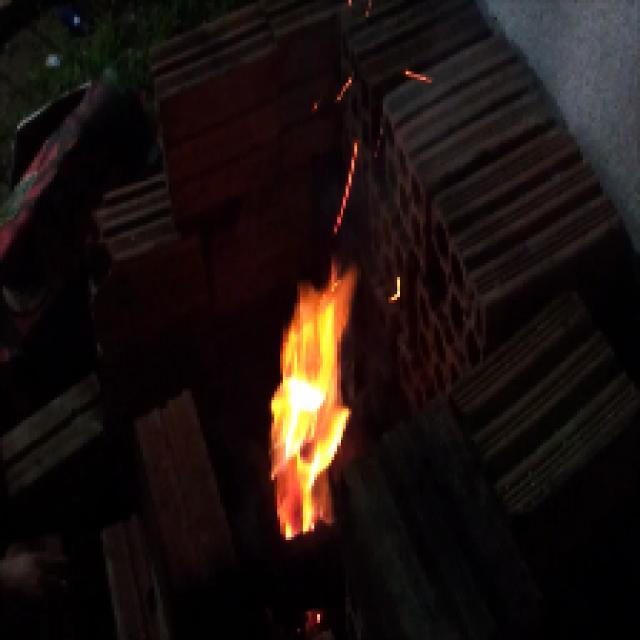fire: (264, 274, 353, 544)
